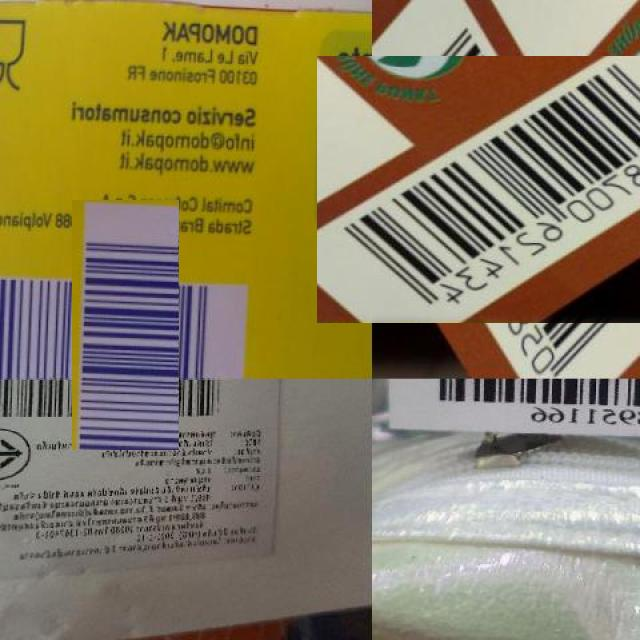Barcode: (345, 28, 640, 352), (36, 236, 215, 415), (0, 378, 232, 431), (424, 379, 640, 428)
